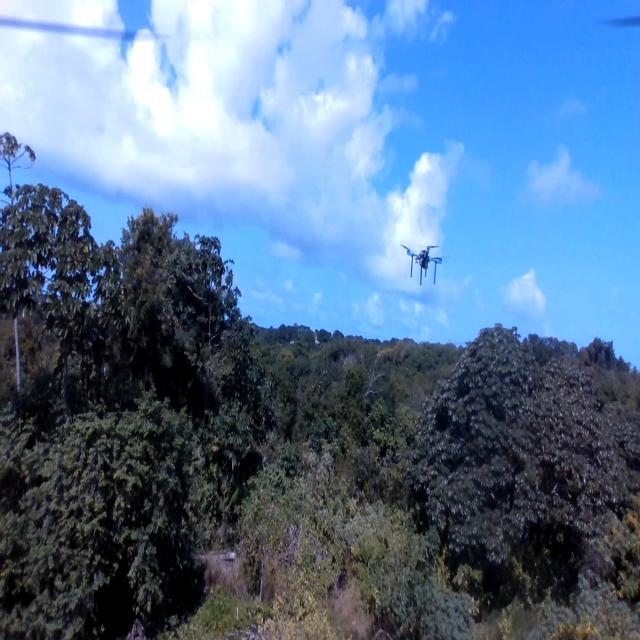-uav-: (398, 227, 450, 298)
